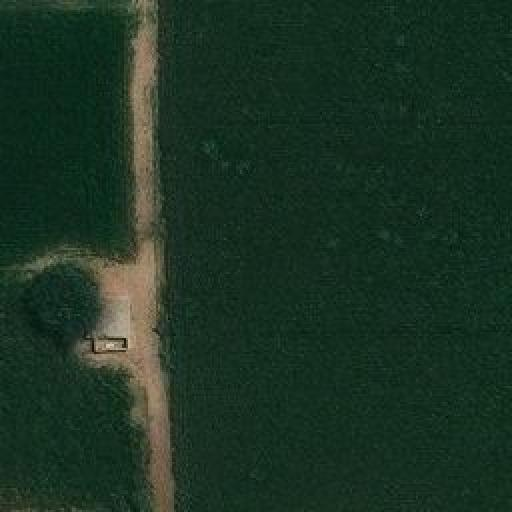manzanas: (84, 292, 135, 356)
